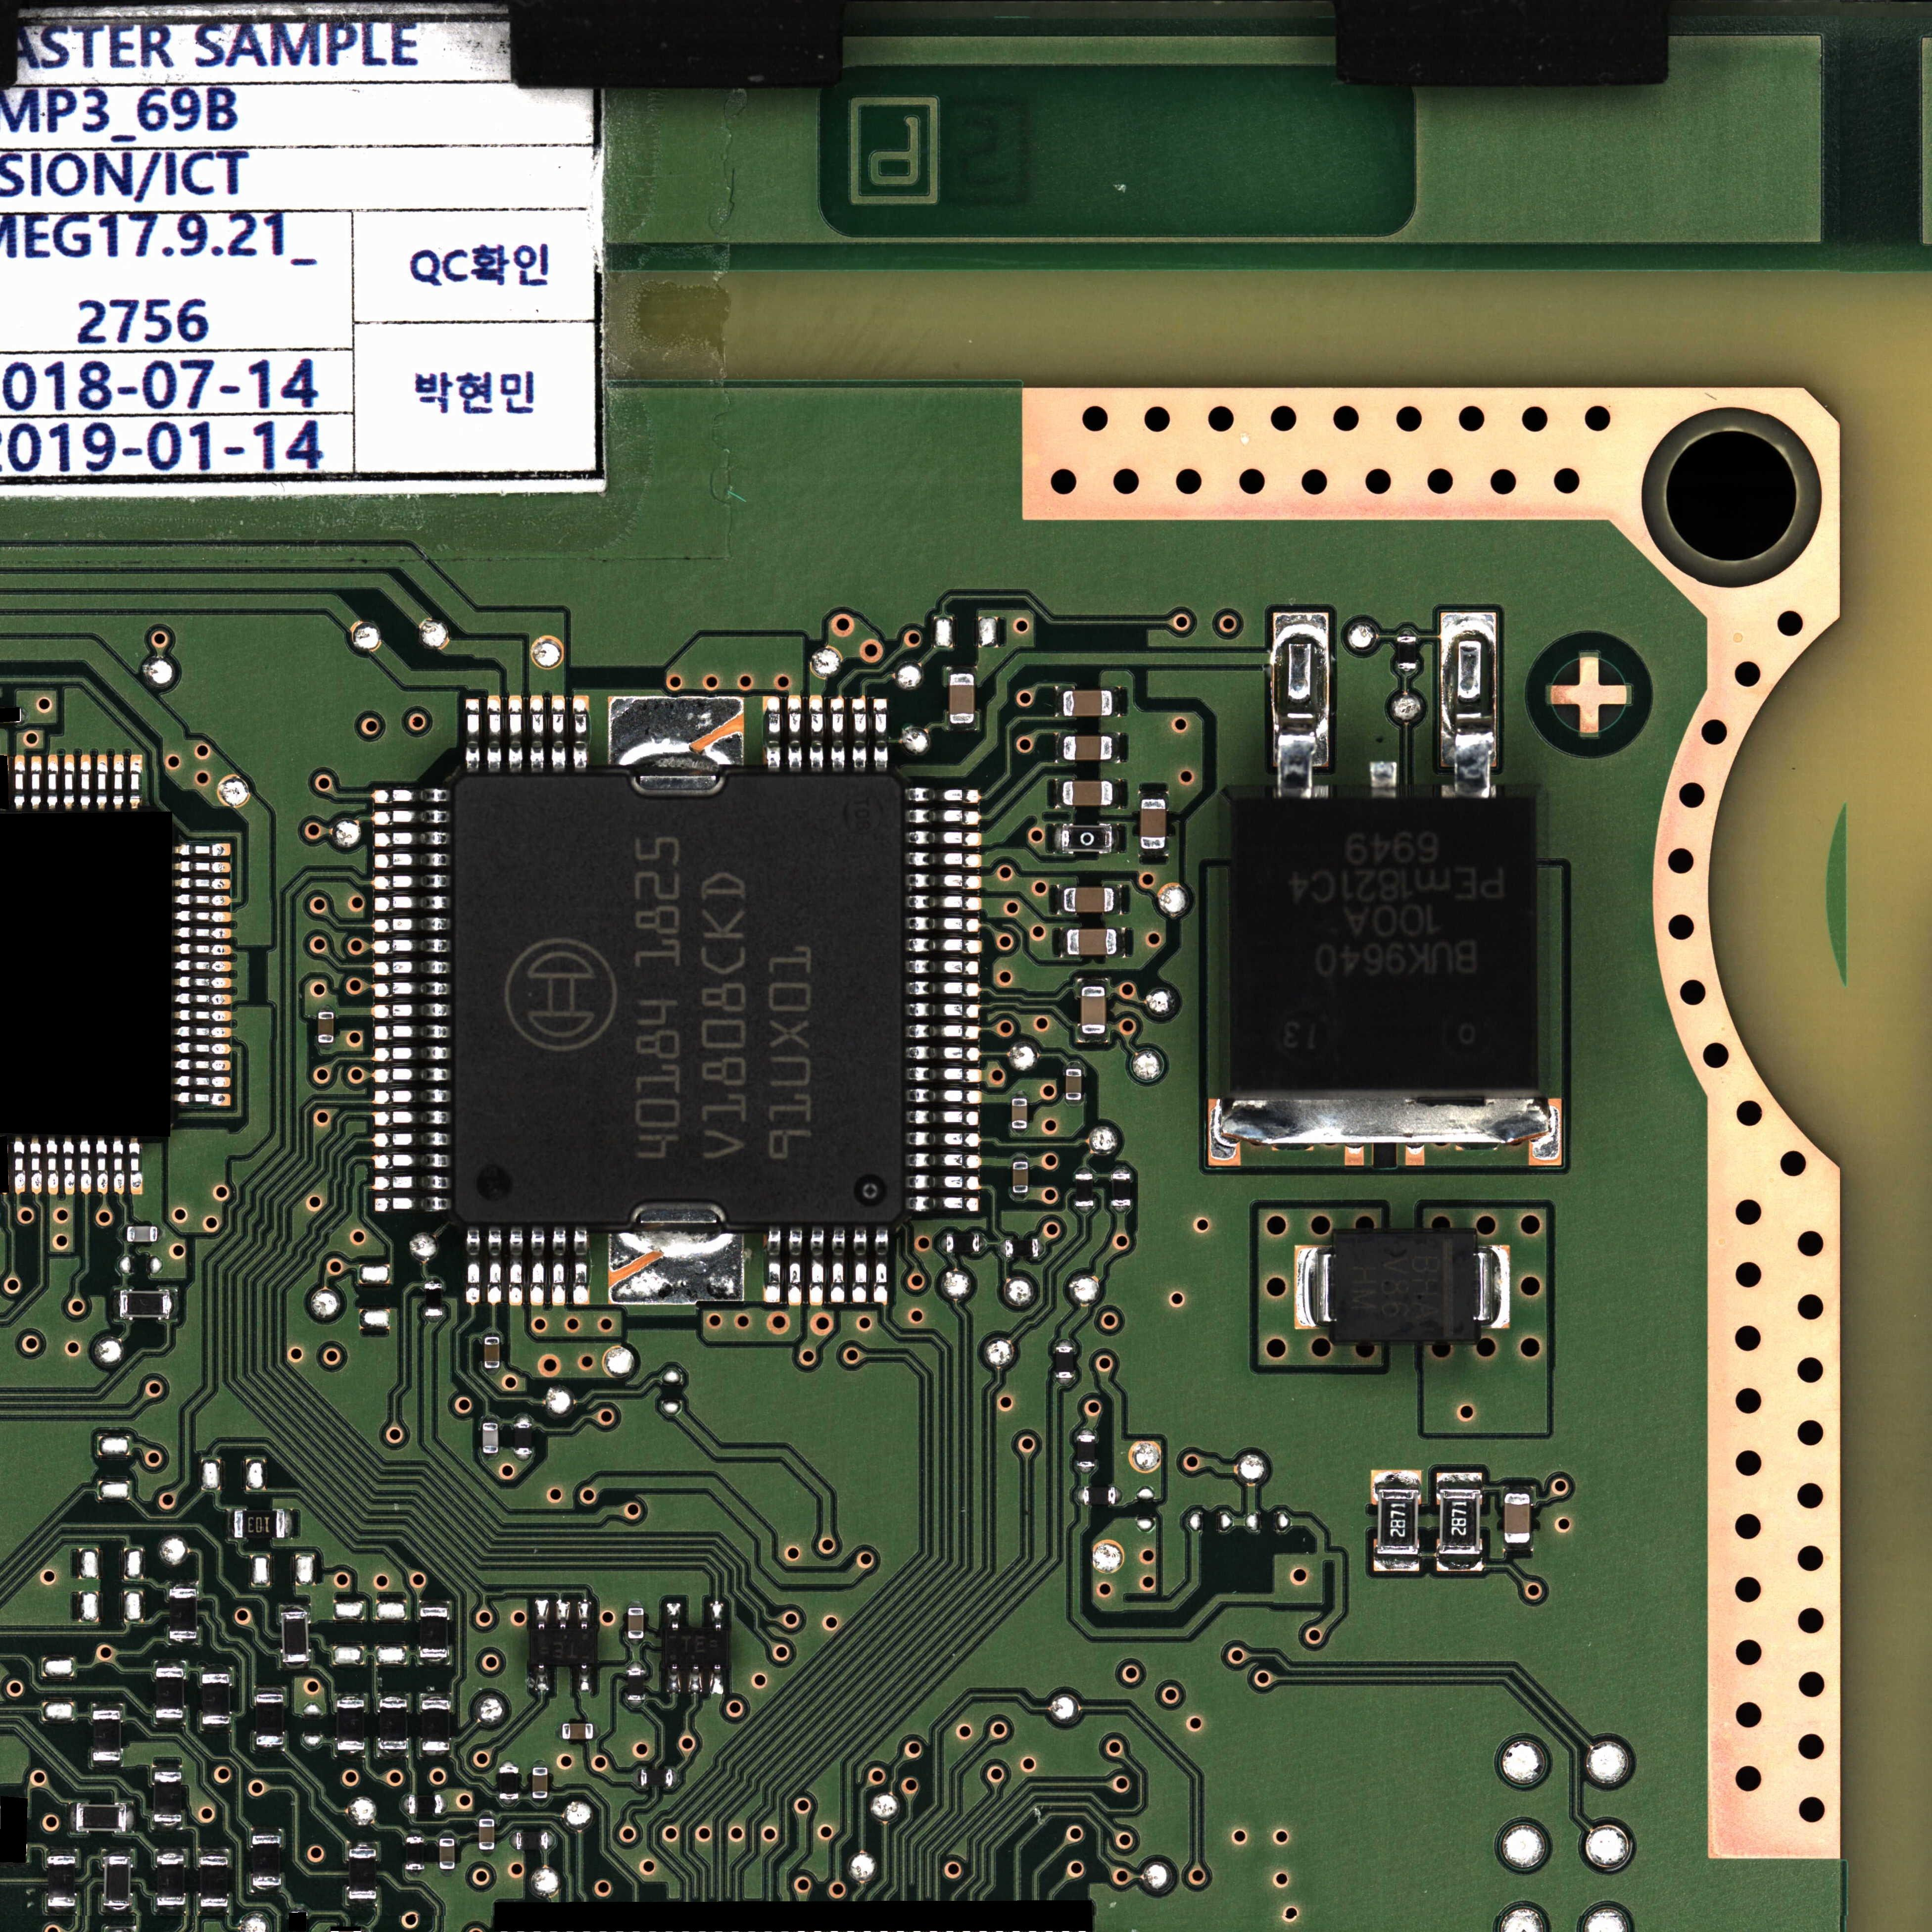Package: (455, 778, 901, 1223), (1231, 801, 1534, 1088), (1336, 1233, 1474, 1341), (1376, 1490, 1417, 1555), (1438, 1490, 1479, 1553), (663, 1629, 725, 1665), (531, 1629, 594, 1663), (379, 1698, 407, 1750), (202, 1674, 230, 1723), (255, 1695, 283, 1744), (336, 1700, 364, 1750), (200, 1856, 228, 1905), (421, 1700, 449, 1750), (1062, 824, 1111, 853), (234, 1511, 285, 1537), (154, 1771, 180, 1822), (1063, 886, 1115, 913), (120, 1292, 170, 1318), (157, 1856, 184, 1905), (48, 1856, 74, 1905), (421, 1608, 448, 1658), (349, 1849, 375, 1898), (94, 1711, 120, 1760), (76, 1805, 126, 1831), (281, 1612, 308, 1661), (156, 1668, 182, 1718), (170, 1589, 196, 1638), (253, 1836, 280, 1886), (1063, 690, 1113, 717), (1063, 780, 1113, 807), (1067, 929, 1116, 955), (1504, 1493, 1530, 1543), (0, 1806, 27, 1854), (950, 674, 975, 724), (104, 1856, 129, 1905), (1141, 800, 1166, 849), (1063, 736, 1111, 761), (1081, 987, 1106, 1033), (499, 1766, 518, 1799), (1005, 1238, 1039, 1258), (1111, 1173, 1131, 1207), (947, 1233, 978, 1253), (1398, 637, 1417, 669), (1054, 1346, 1074, 1378), (425, 1283, 442, 1316), (405, 1836, 423, 1870), (517, 1831, 548, 1849), (409, 1796, 441, 1813), (640, 1769, 672, 1787), (515, 1422, 533, 1454), (1076, 1175, 1093, 1207), (1077, 1435, 1095, 1467), (628, 1668, 644, 1700), (1083, 1488, 1115, 1504), (1065, 1069, 1081, 1100), (318, 1012, 334, 1042), (533, 1767, 548, 1798), (563, 1723, 593, 1739), (127, 1226, 157, 1242), (628, 1608, 644, 1638), (1012, 1099, 1028, 1129), (1012, 1162, 1028, 1192), (479, 1819, 494, 1849), (441, 1838, 455, 1868), (485, 1338, 499, 1368), (483, 1422, 497, 1453)
Solder: (1207, 1090, 1560, 1168), (1440, 610, 1497, 801), (1272, 612, 1329, 801), (610, 697, 745, 775), (609, 1230, 745, 1302), (1295, 1246, 1336, 1329), (1474, 1246, 1509, 1329), (763, 695, 780, 771), (906, 1131, 980, 1148), (372, 789, 451, 805), (372, 916, 451, 932), (372, 938, 451, 954), (372, 1003, 451, 1019), (372, 1067, 451, 1083), (465, 1226, 481, 1306), (487, 695, 502, 773), (373, 853, 451, 869), (373, 874, 451, 890), (372, 961, 449, 977), (373, 982, 451, 998), (373, 1024, 451, 1040), (373, 1046, 451, 1062), (373, 1088, 451, 1104), (508, 695, 524, 773), (904, 809, 982, 824), (904, 787, 982, 803), (529, 695, 545, 773), (465, 697, 481, 773), (373, 809, 449, 824), (373, 1109, 449, 1125), (375, 1196, 451, 1212), (373, 1175, 449, 1191), (573, 695, 589, 771), (809, 695, 824, 771), (830, 695, 846, 771), (550, 695, 566, 771), (906, 895, 982, 911), (906, 851, 982, 867), (906, 874, 982, 890), (906, 938, 982, 954), (906, 916, 982, 932), (573, 1228, 589, 1304), (375, 895, 449, 911), (375, 832, 449, 847), (851, 697, 867, 771), (906, 959, 980, 975), (906, 1024, 980, 1040), (906, 1003, 980, 1019), (906, 1046, 980, 1062), (908, 1067, 982, 1083), (908, 1088, 982, 1104), (906, 1154, 980, 1169), (904, 1196, 978, 1212), (906, 1175, 978, 1191), (1369, 761, 1398, 801), (488, 1226, 502, 1306), (908, 1109, 978, 1125), (552, 1226, 566, 1306), (373, 1132, 451, 1146), (373, 1154, 451, 1168), (787, 694, 801, 771), (531, 1226, 545, 1304), (906, 832, 982, 846), (810, 1228, 824, 1304), (853, 1228, 867, 1304), (874, 1226, 888, 1302), (874, 697, 888, 771), (906, 982, 980, 996), (832, 1228, 846, 1302), (1371, 1470, 1422, 1490), (510, 1228, 522, 1306), (768, 1226, 780, 1302), (789, 1228, 801, 1304), (1437, 1472, 1483, 1490), (175, 1092, 230, 1106), (1373, 1555, 1421, 1571), (1437, 1555, 1483, 1571), (173, 895, 232, 908), (175, 1010, 234, 1023), (175, 1026, 234, 1039), (173, 844, 230, 856), (173, 862, 230, 874), (173, 878, 230, 890), (175, 909, 232, 922), (175, 927, 232, 939), (175, 943, 232, 955), (175, 961, 232, 973), (175, 977, 232, 989), (175, 993, 232, 1005), (175, 1042, 232, 1054), (175, 1060, 232, 1072), (175, 1076, 232, 1088), (129, 1138, 142, 1194), (113, 1138, 126, 1194), (96, 1138, 108, 1194), (80, 1138, 92, 1194), (30, 1138, 42, 1194), (64, 1138, 74, 1194), (14, 1138, 25, 1194), (97, 755, 108, 810), (48, 1139, 58, 1194), (14, 755, 25, 809), (64, 755, 74, 809), (48, 755, 58, 809), (113, 755, 124, 809), (131, 755, 142, 809), (534, 1663, 550, 1693), (32, 755, 41, 809), (81, 755, 90, 809), (556, 1599, 571, 1628), (534, 1599, 548, 1629), (577, 1663, 591, 1693), (709, 1665, 724, 1695), (577, 1599, 591, 1629), (688, 1665, 702, 1693), (709, 1601, 724, 1629), (667, 1665, 681, 1693), (667, 1603, 681, 1629), (1051, 823, 1062, 855), (1116, 927, 1127, 957), (1113, 885, 1123, 915), (1077, 977, 1108, 987), (0, 1796, 28, 1806), (111, 1288, 120, 1320), (170, 1288, 179, 1320), (280, 1661, 311, 1670), (1138, 849, 1169, 858), (1111, 823, 1120, 855), (1077, 1033, 1109, 1042), (285, 1509, 294, 1539), (126, 1803, 134, 1833), (69, 1803, 78, 1833), (251, 1828, 281, 1836), (947, 665, 977, 674), (1054, 732, 1063, 763), (1054, 778, 1063, 809), (1113, 686, 1122, 717), (1054, 686, 1063, 717), (1113, 732, 1122, 763), (1058, 927, 1067, 957), (1054, 885, 1063, 915), (1113, 778, 1122, 809), (1504, 1484, 1534, 1493), (349, 1842, 377, 1851), (1139, 791, 1168, 800), (157, 1847, 184, 1856), (0, 1856, 27, 1865), (280, 1605, 311, 1612), (418, 1658, 449, 1665), (947, 724, 978, 731), (226, 1509, 234, 1539), (419, 1601, 449, 1608), (1504, 1543, 1534, 1550), (202, 1667, 230, 1674), (156, 1718, 184, 1725), (154, 1822, 182, 1829), (421, 1693, 449, 1700), (255, 1688, 283, 1695), (421, 1750, 449, 1757), (104, 1849, 133, 1856), (48, 1849, 76, 1856), (168, 1582, 196, 1589), (202, 1723, 230, 1730), (338, 1693, 364, 1700), (94, 1760, 120, 1767), (349, 1898, 375, 1905), (168, 1638, 198, 1644), (1398, 628, 1415, 637), (103, 1905, 131, 1911), (200, 1907, 228, 1913), (156, 1905, 184, 1911), (156, 1661, 184, 1667), (336, 1750, 364, 1755), (379, 1750, 407, 1755), (255, 1746, 283, 1752), (380, 1693, 409, 1698), (94, 1704, 120, 1709), (253, 1886, 280, 1891), (154, 1766, 180, 1771), (48, 1907, 74, 1913), (202, 1851, 228, 1856), (1012, 1090, 1028, 1099), (21, 708, 30, 724), (978, 1233, 985, 1253), (1111, 1207, 1131, 1214), (1054, 1339, 1074, 1346), (1111, 1166, 1131, 1173), (483, 1330, 501, 1338), (939, 1235, 947, 1253), (1398, 669, 1415, 676), (1076, 1207, 1093, 1214), (1077, 1428, 1095, 1435), (1056, 1378, 1074, 1385), (1065, 1062, 1083, 1069), (1076, 1168, 1093, 1175), (1076, 1486, 1083, 1504), (1077, 1467, 1095, 1474), (1116, 1486, 1123, 1504), (157, 1226, 165, 1242), (120, 1226, 127, 1242), (402, 1796, 409, 1812), (515, 1454, 531, 1461), (628, 1661, 644, 1668), (628, 1601, 644, 1608), (533, 1799, 548, 1806), (510, 1833, 517, 1849), (1012, 1129, 1028, 1136), (1012, 1192, 1028, 1200), (998, 1240, 1005, 1256), (1012, 1155, 1028, 1162), (1039, 1240, 1046, 1256), (425, 1316, 444, 1322), (288, 1905, 308, 1911), (630, 1638, 644, 1645), (533, 1760, 547, 1767), (425, 1277, 442, 1283), (317, 1044, 334, 1049), (483, 1368, 501, 1373), (501, 1801, 518, 1806), (499, 1760, 517, 1766), (1065, 1100, 1083, 1106), (318, 1007, 334, 1012), (483, 1453, 499, 1458), (407, 1870, 423, 1875), (515, 1417, 531, 1422), (628, 1700, 644, 1706), (593, 1723, 598, 1739), (635, 1769, 640, 1785), (557, 1723, 563, 1739), (672, 1769, 678, 1785), (483, 1417, 497, 1422), (479, 1813, 494, 1819), (479, 1849, 494, 1854), (548, 1833, 554, 1847), (442, 1796, 446, 1812), (407, 1833, 421, 1836), (441, 1870, 453, 1874), (441, 1835, 453, 1838)
